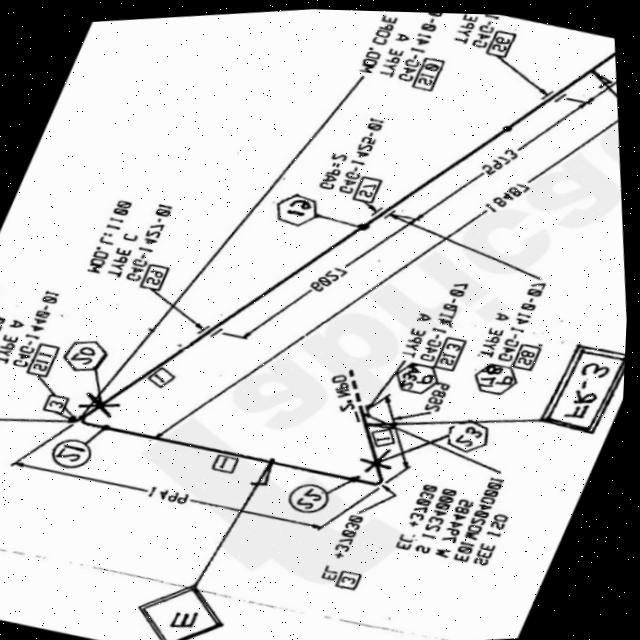Item number: (408, 52, 448, 93), (431, 331, 470, 371), (24, 340, 64, 378), (349, 171, 386, 205), (483, 24, 519, 57), (510, 338, 545, 371), (137, 261, 173, 292), (42, 391, 76, 420), (208, 450, 244, 474), (333, 566, 366, 591), (146, 365, 179, 388)
Measrement: (152, 111, 619, 441), (231, 215, 422, 341), (8, 446, 294, 520)
Pipeline: (92, 39, 616, 412)
Symbol: (70, 387, 125, 434), (344, 445, 396, 492)
Weld number: (440, 413, 496, 454), (271, 189, 323, 228), (61, 336, 111, 375), (285, 478, 335, 516), (48, 434, 96, 472)
other: (395, 458, 516, 568), (86, 193, 177, 283), (478, 267, 552, 365), (397, 274, 473, 368), (359, 9, 449, 84), (317, 111, 388, 198), (0, 277, 61, 373), (316, 499, 380, 584)
